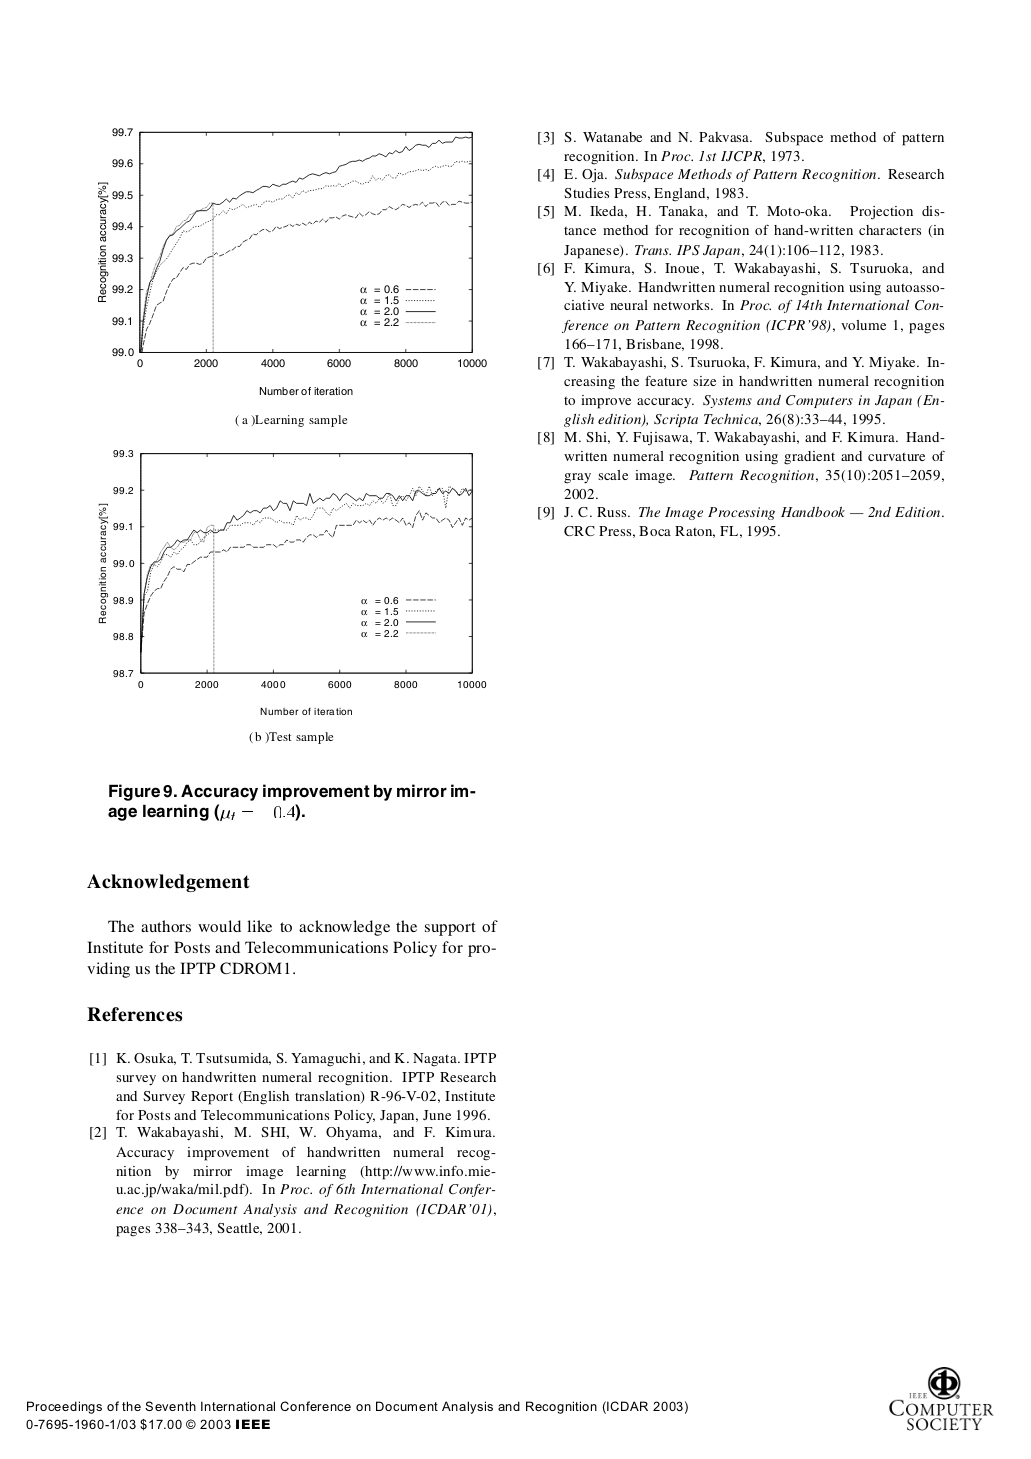figure: (98, 128, 486, 395), (98, 450, 486, 688), (889, 1368, 993, 1430)
